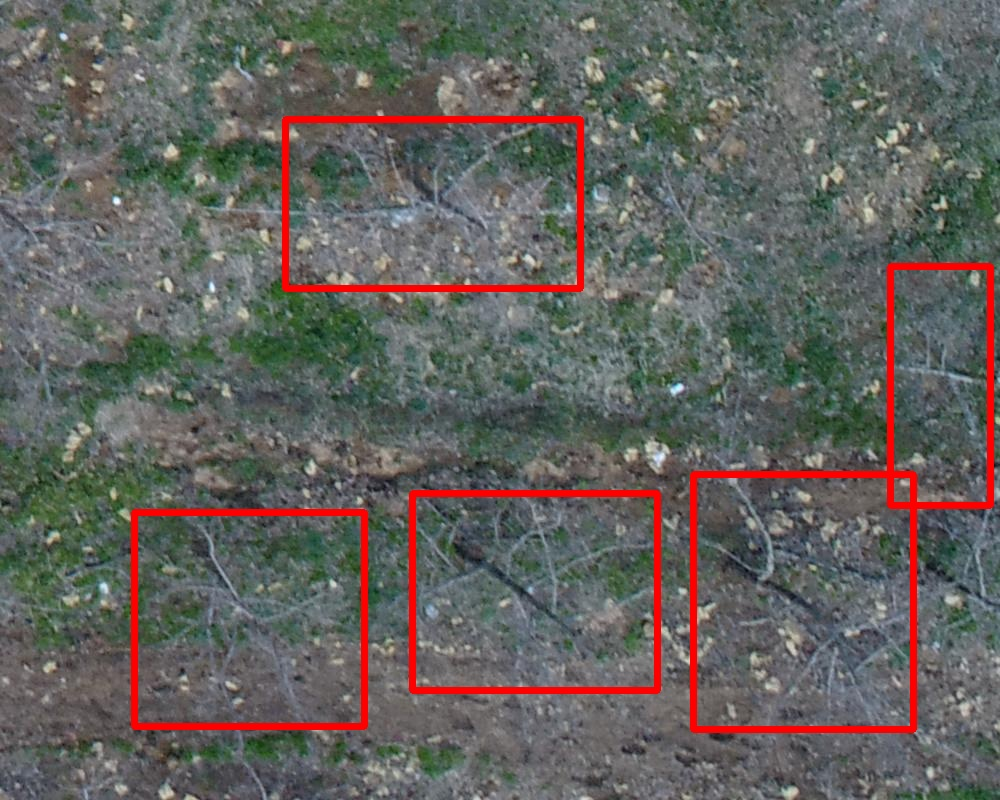apple: (693, 474, 913, 729), (285, 119, 580, 288), (134, 512, 364, 726), (412, 493, 657, 690), (890, 266, 990, 505)
